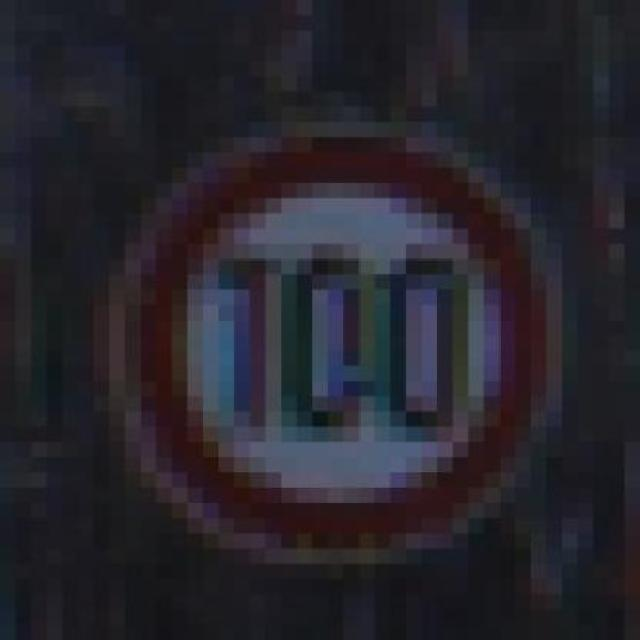forb_speed_over_100: (130, 128, 548, 555)
